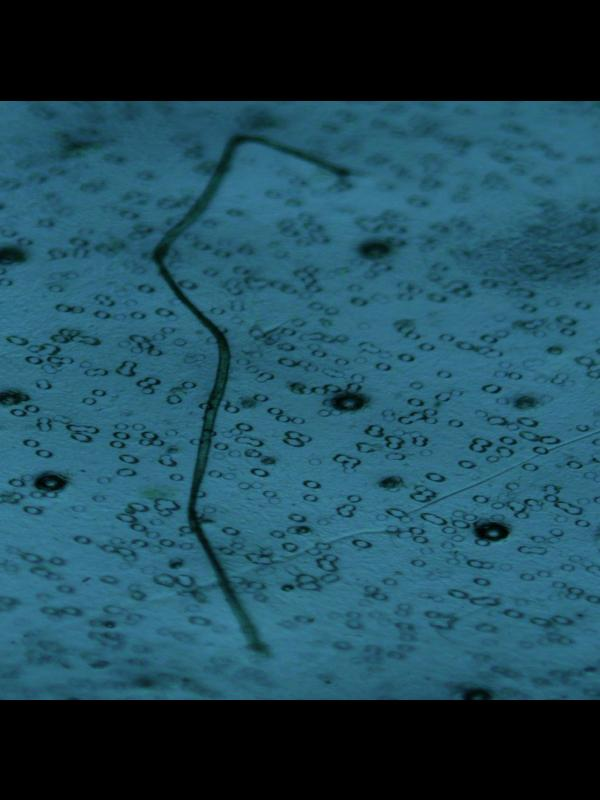microplastic: (0, 101, 600, 698), (147, 132, 355, 656)
